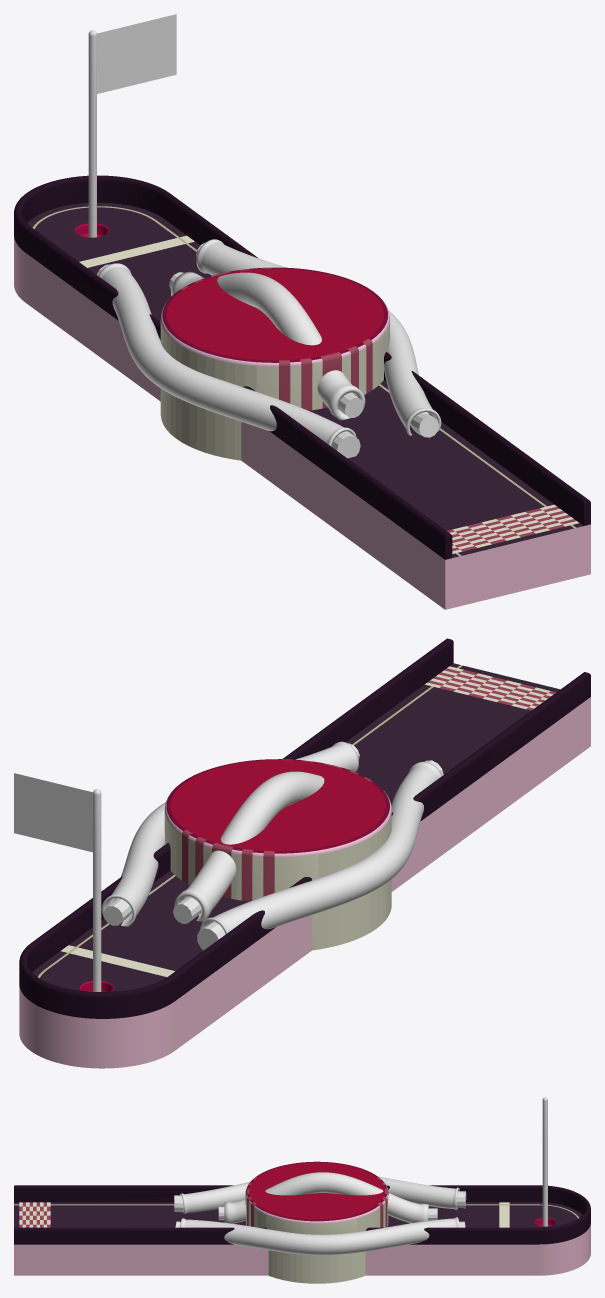
Rendered from First Track.fbx.
3 views of the same model, one above another, from view 1: azimuth 30°, elevation 25°; view 2: azimuth 150°, elevation 25°; view 3: azimuth 270°, elevation 25° (orthographic). The views are drawn at different scales.
Visible parts, largest first — view 1: Minigolf Area, CenterGarden, Pipe.Left, Pipes.Center, Flag Cloth, Pipe.Right, Flag Pole; view 2: Minigolf Area, CenterGarden, Pipe.Left, Pipes.Center, Flag Cloth, Pipe.Right, Flag Pole, Pipe.Right.002, Pipe.Left.002; view 3: Minigolf Area, CenterGarden, Pipe.Right, Pipes.Center, Pipe.Left, Flag Pole, Pipe.Left.002.
Part boxes in pixels (bbox=[...]): Minigolf Area: bbox=[14, 175, 590, 609]; CenterGarden: bbox=[160, 267, 389, 460]; Pipe.Left: bbox=[98, 263, 356, 446]; Pipes.Center: bbox=[171, 271, 365, 420]; Flag Cloth: bbox=[97, 14, 176, 93]; Pipe.Right: bbox=[196, 239, 441, 435]; Flag Pole: bbox=[88, 30, 96, 237]; Minigolf Area: bbox=[19, 638, 590, 1068]; CenterGarden: bbox=[164, 759, 391, 950]; Pipe.Left: bbox=[200, 761, 441, 934]; Pipes.Center: bbox=[174, 771, 324, 921]; Flag Cloth: bbox=[14, 773, 92, 852]; Pipe.Right: bbox=[101, 741, 358, 926]; Flag Pole: bbox=[93, 789, 101, 991]; Pipe.Right.002: bbox=[103, 743, 359, 925]; Pipe.Left.002: bbox=[197, 760, 443, 950]; Minigolf Area: bbox=[14, 1185, 590, 1275]; CenterGarden: bbox=[245, 1161, 388, 1283]; Pipe.Right: bbox=[180, 1217, 459, 1255]; Pipes.Center: bbox=[224, 1172, 428, 1223]; Pipe.Left: bbox=[180, 1176, 459, 1213]; Flag Pole: bbox=[542, 1097, 547, 1226]; Pipe.Left.002: bbox=[174, 1191, 466, 1212].
Size of the model in its own units: 99.57 by 100 by 335.
